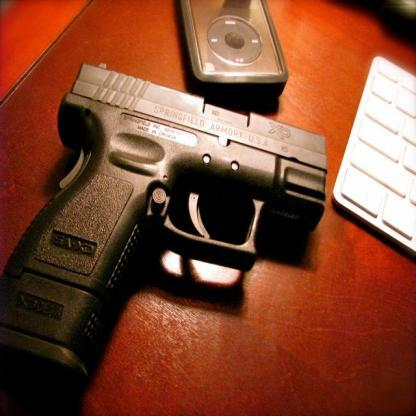weapon: (0, 62, 329, 384)
